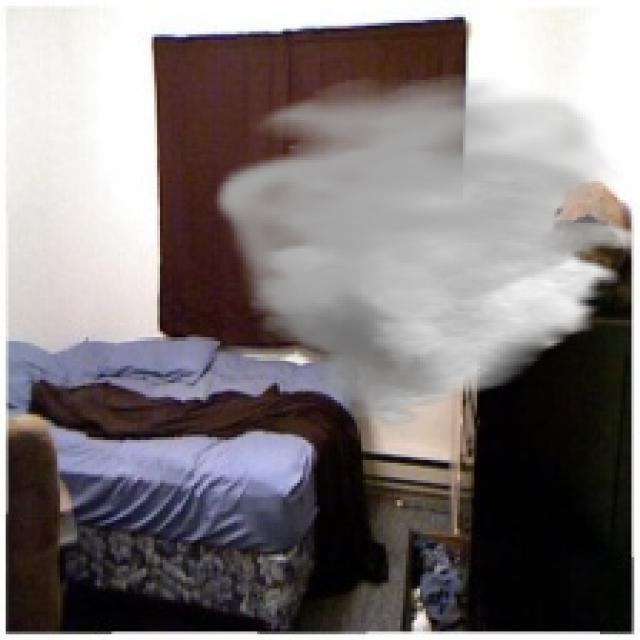Smoke: (208, 74, 634, 429)
